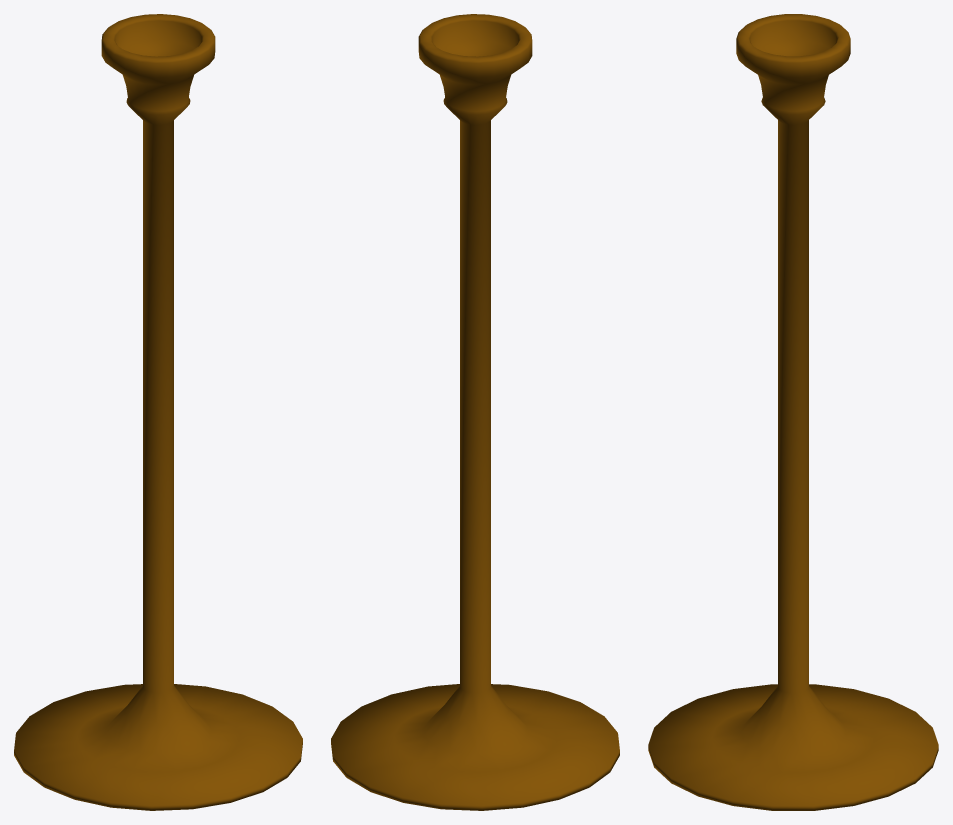
Rendered from Candle_Stick.obj.
The picture shows the model from 3 angles, left to right: view 1: azimuth 30°, elevation 25°; view 2: azimuth 150°, elevation 25°; view 3: azimuth 270°, elevation 25°; orthographic projection.
Parts seen in each view (by area): view 1: Candle_Stick_Q.003; view 2: Candle_Stick_Q.003; view 3: Candle_Stick_Q.003.
Boxes of the visible parts, x1,y1,x2,y2 form: Candle_Stick_Q.003: (14, 14, 302, 810); Candle_Stick_Q.003: (331, 14, 619, 810); Candle_Stick_Q.003: (648, 14, 938, 810).
Size of the model in its own units: 0.0833 by 0.228 by 0.0842.
